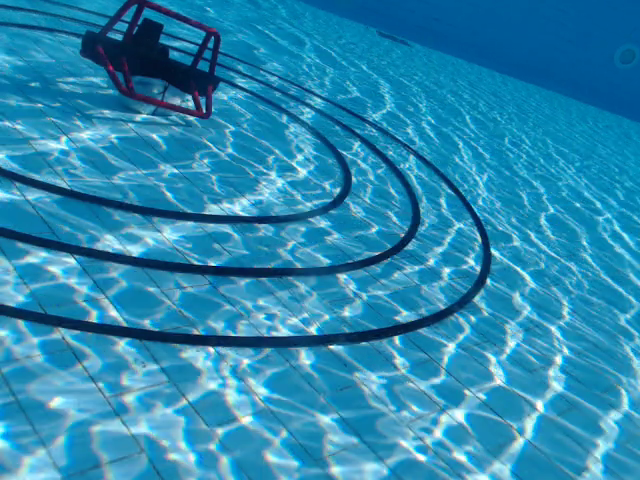submarine: (76, 1, 224, 120)
